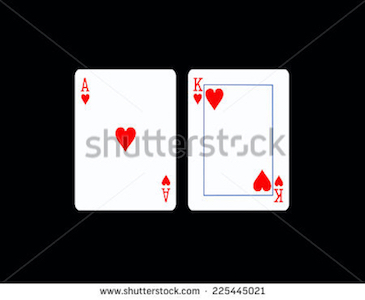AceOfHearts: (68, 66, 179, 214)
KingOfHearts: (184, 66, 292, 213)
